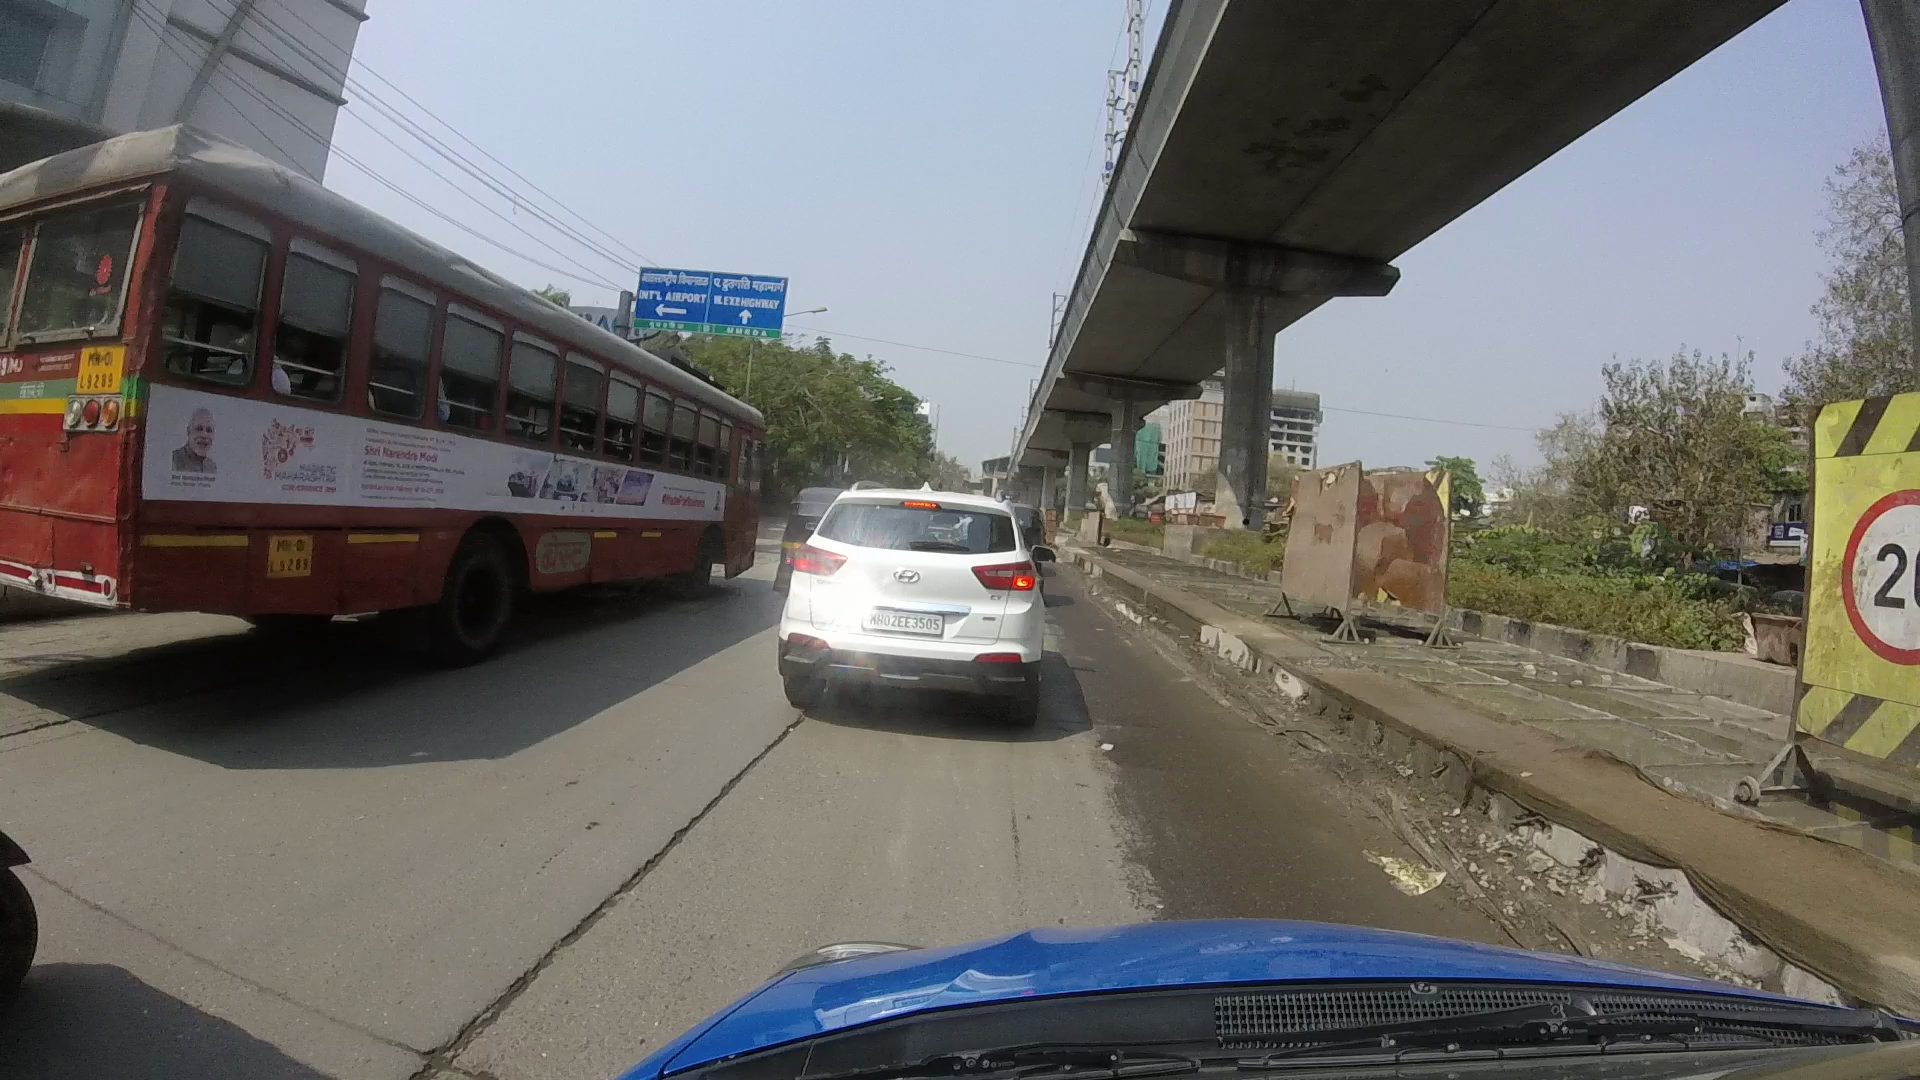bus: (1, 113, 798, 659)
car: (731, 422, 1101, 707)
